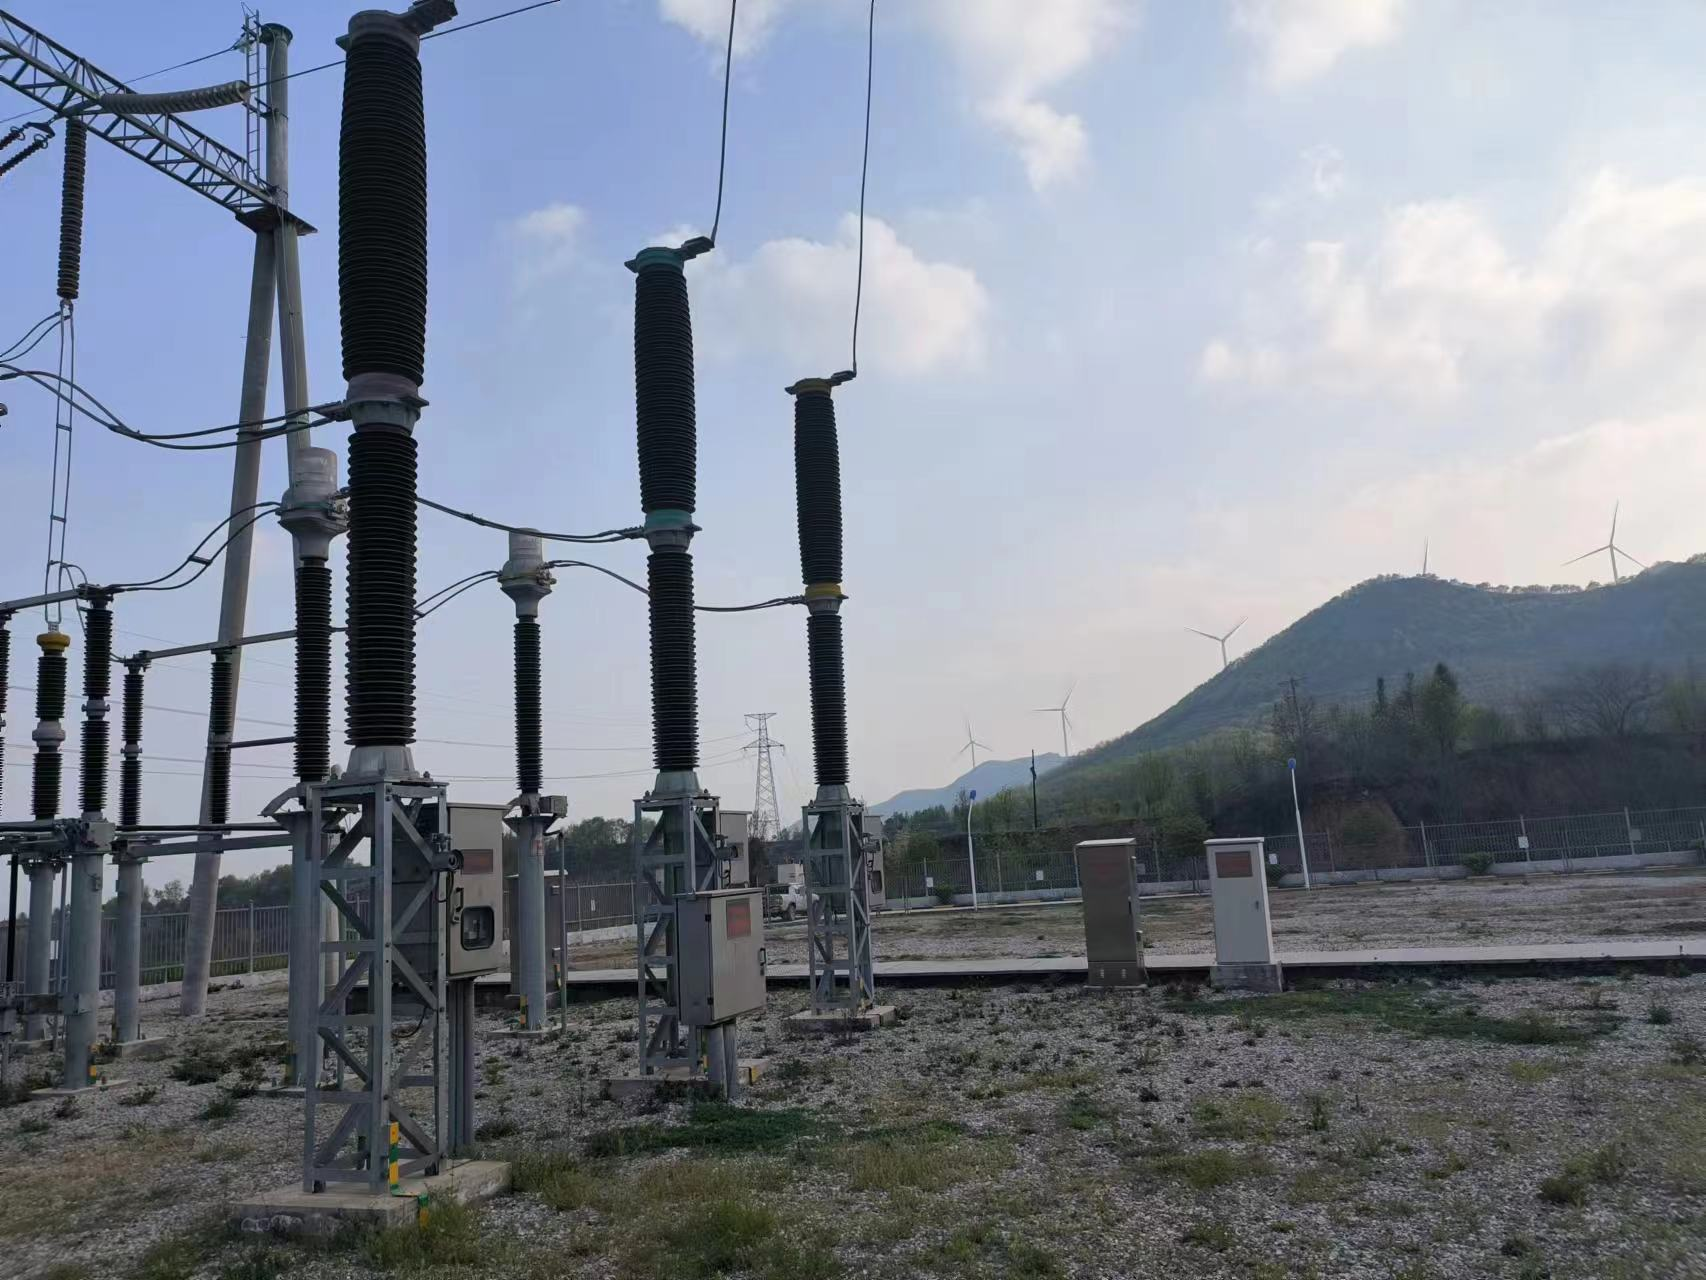Circuit-breaker: (321, 3, 454, 791), (616, 239, 719, 801), (778, 363, 868, 809)
